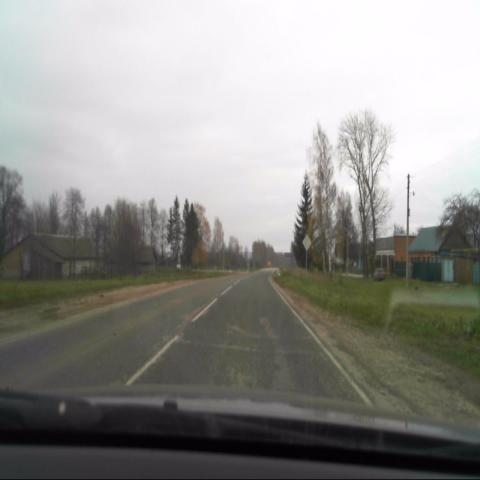2_1: (302, 235, 311, 251)
